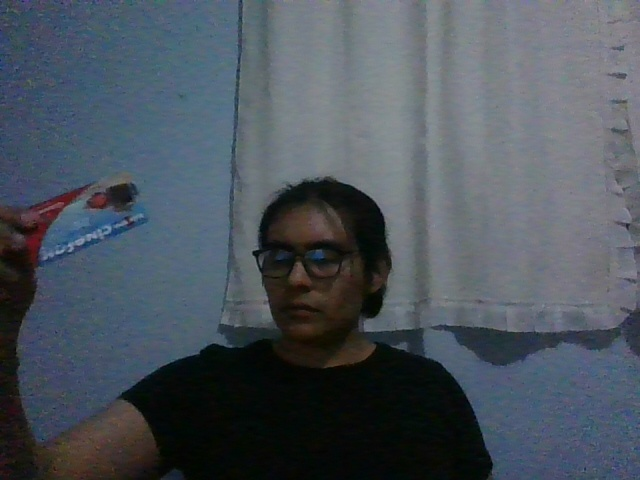tarjeta: (23, 171, 150, 269)
